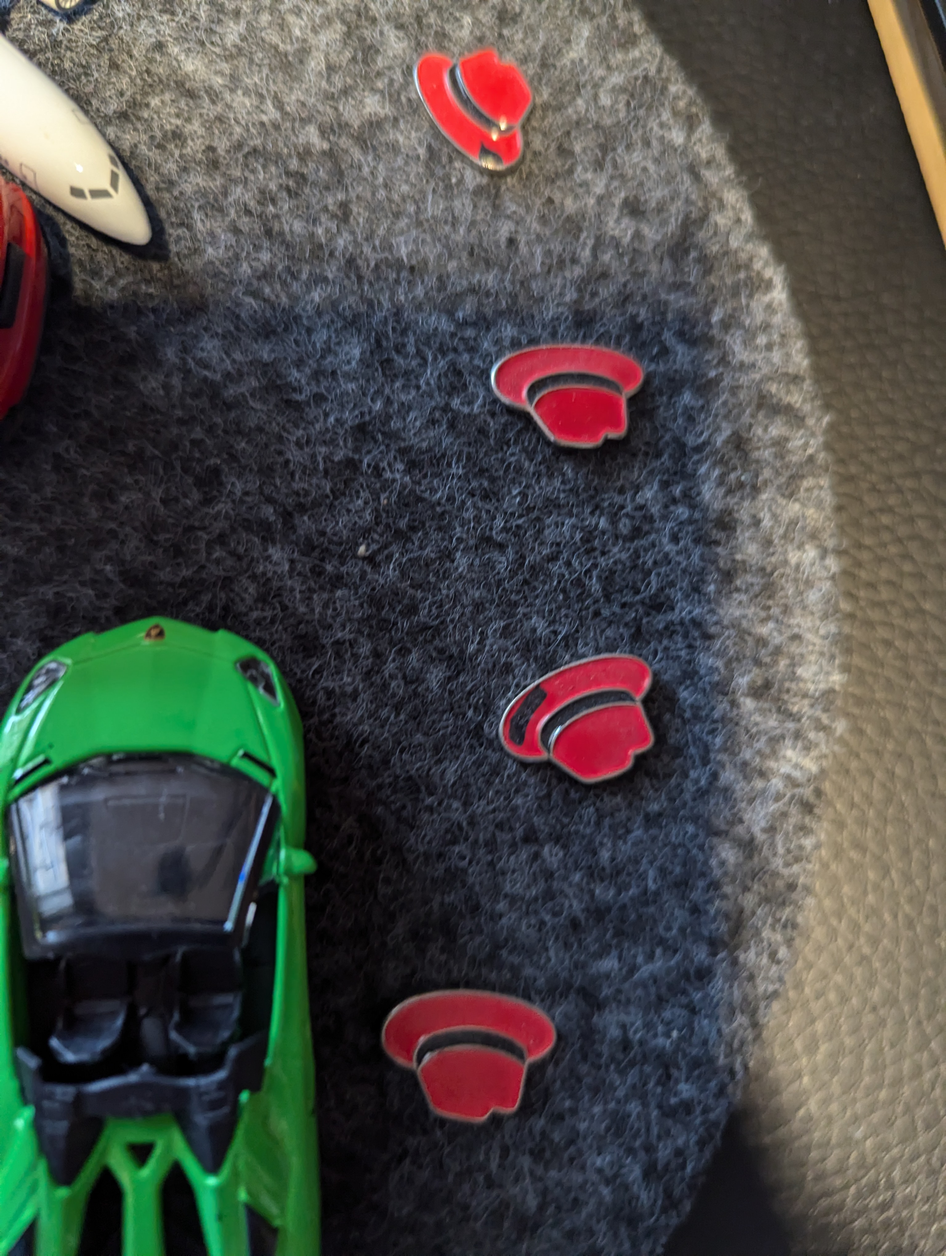Car: (0, 596, 331, 1256)
Red-Hat: (469, 626, 687, 815), (354, 971, 570, 1145), (464, 325, 701, 483), (392, 23, 546, 216)
Scratch: (480, 674, 552, 753), (464, 139, 520, 192)
